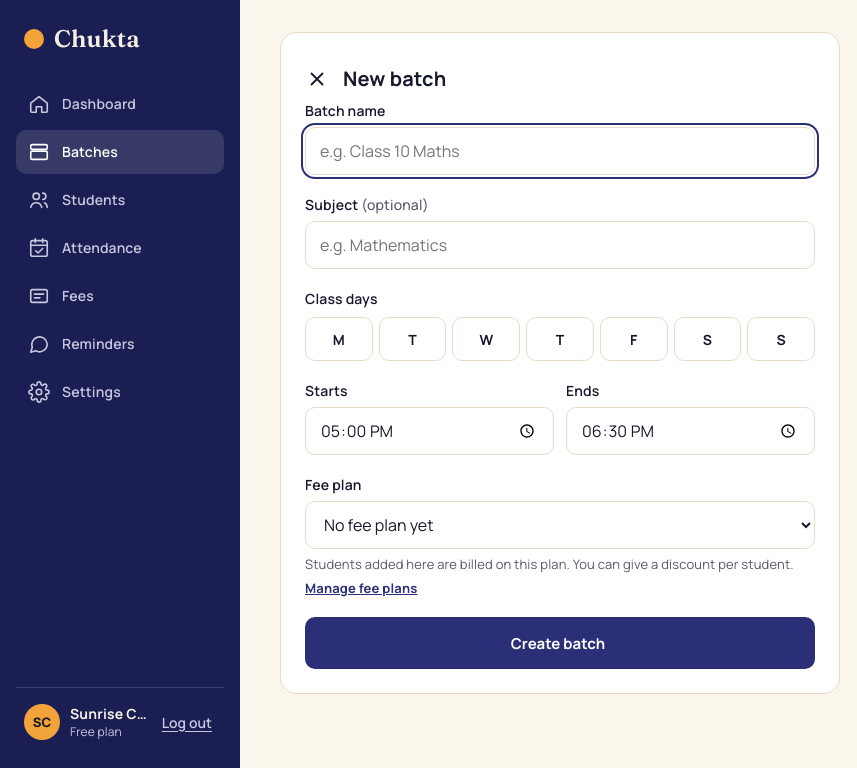
Test case: /batches/new › shows why the batch couldn't be created and stays on the form
Type "Yoga" into the field labelled "Batch name" at {"x": 560, "y": 151}, box left=305, top=127, right=815, bottom=175
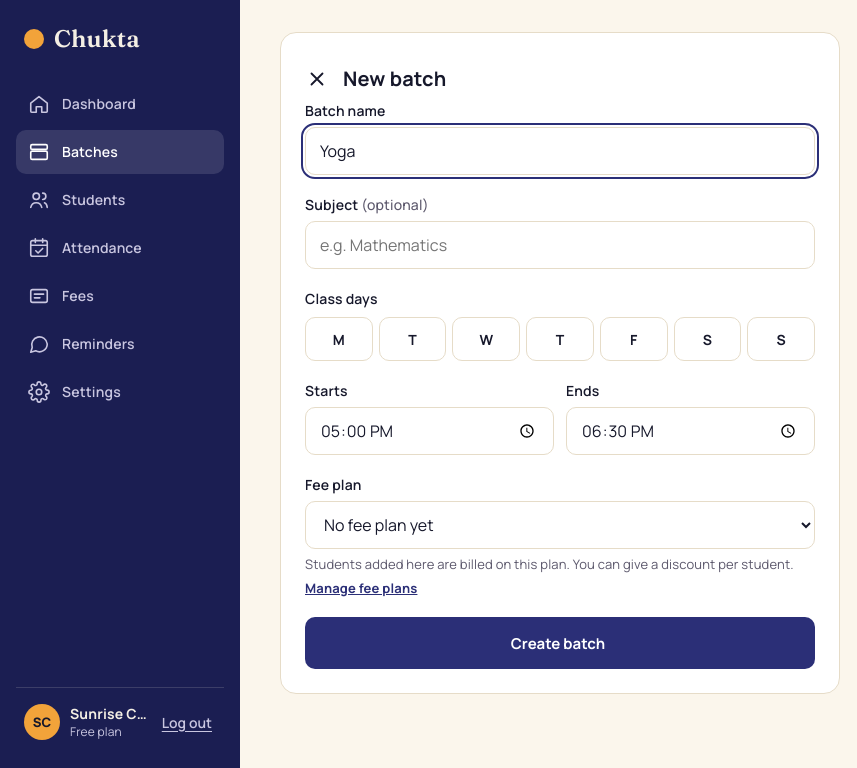
Click the button named "Saturday" at {"x": 707, "y": 339}, box left=674, top=317, right=741, bottom=361
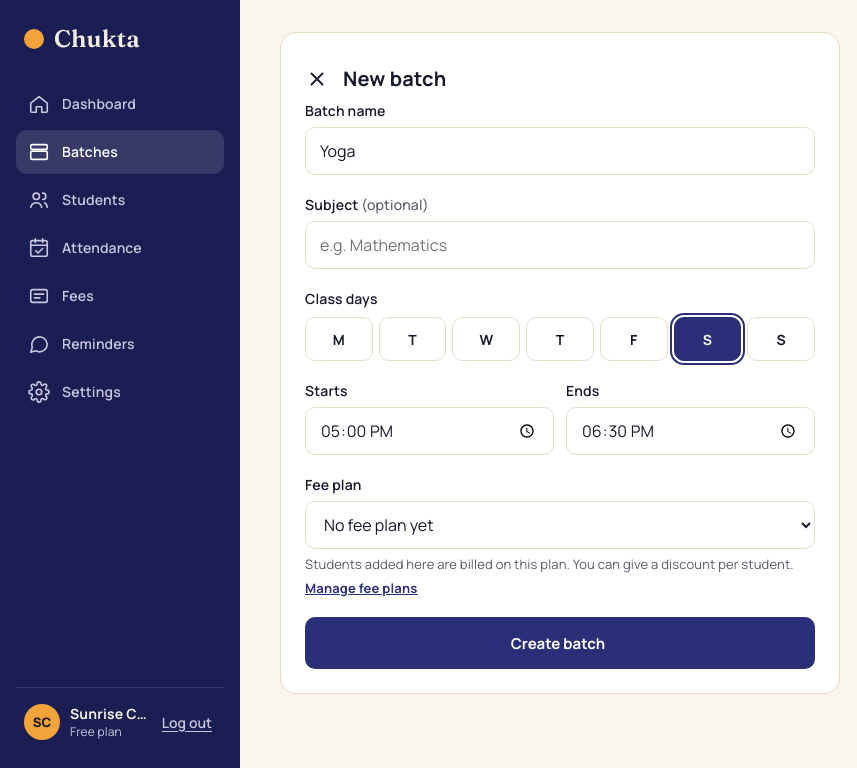
Replace the text in the time field labelled "Starts" with "07:00" at {"x": 430, "y": 431}, box left=305, top=407, right=554, bottom=455
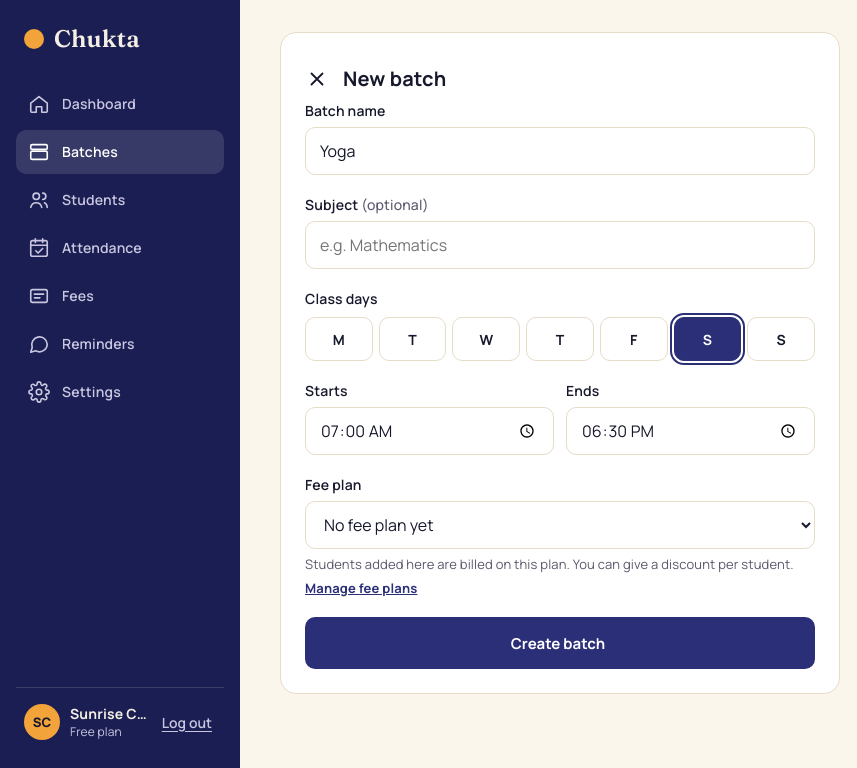
Replace the text in the time field labelled "Ends" with "08:00" at {"x": 690, "y": 431}, box left=566, top=407, right=815, bottom=455
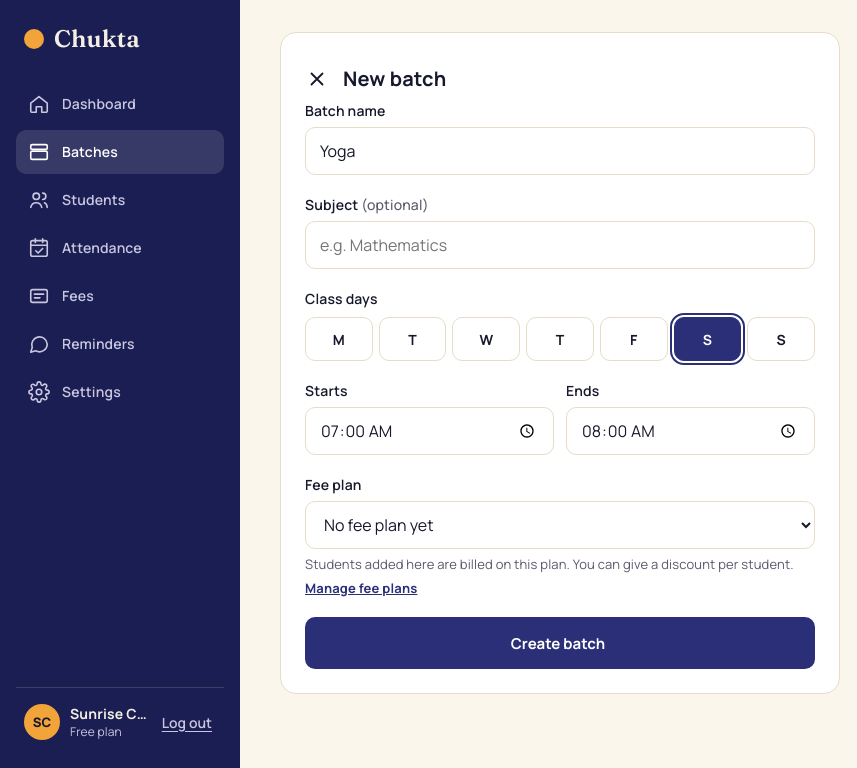
Click the button "Create batch" at {"x": 560, "y": 643}, box left=305, top=617, right=815, bottom=669
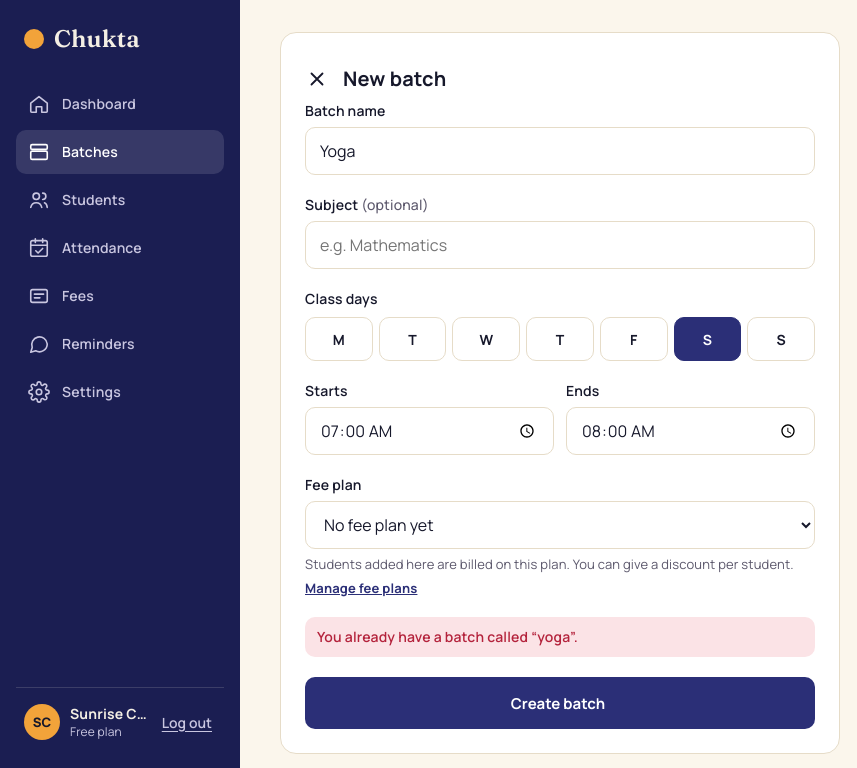
expect the message reads "You already have a batch called “yoga”.": met, box left=317, top=627, right=578, bottom=646
